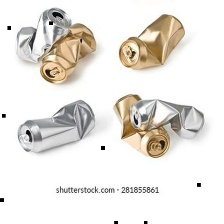can: (12, 98, 96, 156), (114, 11, 186, 72), (108, 90, 171, 159), (37, 20, 99, 87), (9, 7, 71, 64), (129, 99, 207, 140)
